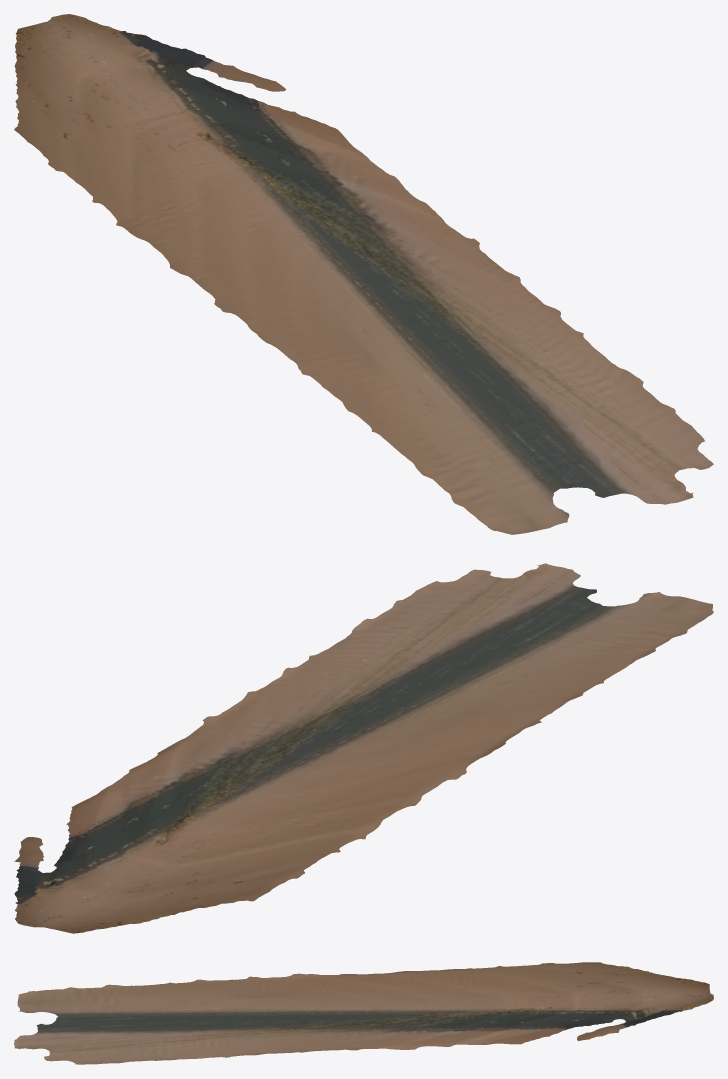
The picture shows the model from 3 angles, top to bottom: view 1: azimuth 30°, elevation 25°; view 2: azimuth 150°, elevation 25°; view 3: azimuth 270°, elevation 25°; orthographic projection. The views are drawn at different scales.
Bounding box in the file's own units: 1.21 × 0.2806 × 4.65.
